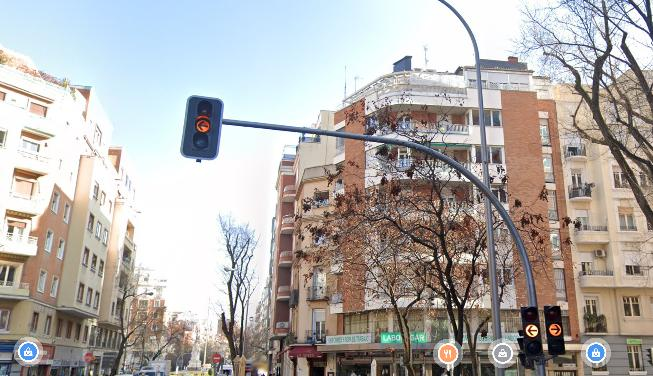yellow_light: (180, 94, 224, 161), (521, 305, 543, 357), (543, 306, 566, 355)
